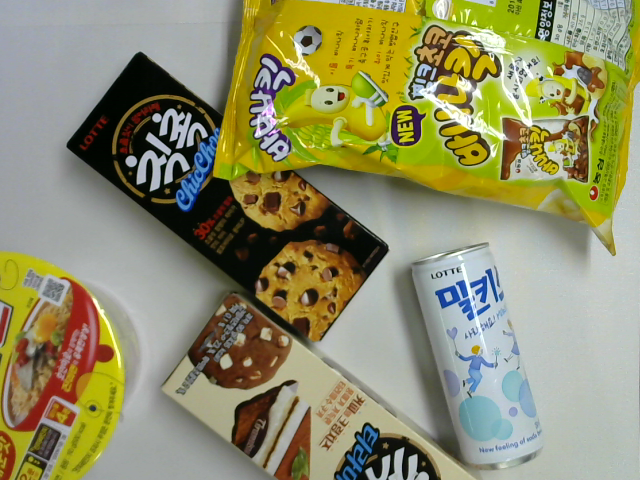Banana_Kick: (212, 1, 640, 262)
Chicchok_Original_2400: (65, 48, 395, 353)
Chicchok_Tiramisu: (156, 285, 484, 480)
Jinlamyeon_Hot_Taste_Large_Cup: (1, 239, 147, 480)
Milkies_250ml: (406, 239, 552, 473)
